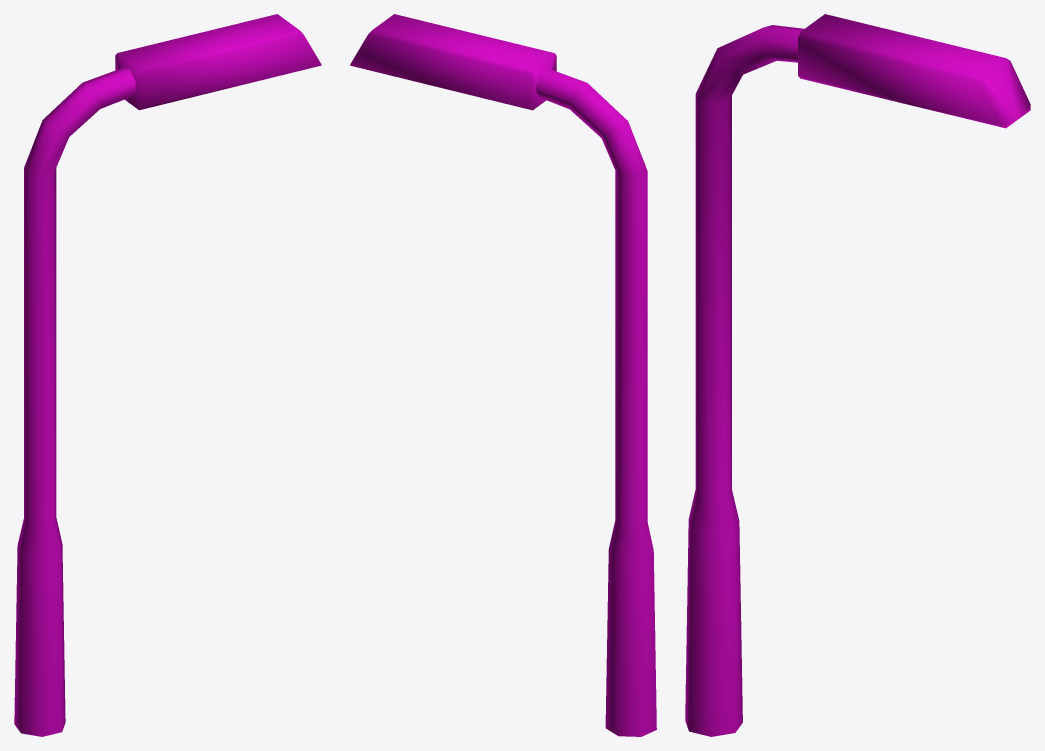
File: Streetlight.fbx
3 renders of one model, left to right at view 1: azimuth 30°, elevation 25°; view 2: azimuth 150°, elevation 25°; view 3: azimuth 330°, elevation 25°, orthographic. The views are drawn at different scales.
Parts seen in each view (by area): view 1: Streetlight; view 2: Streetlight; view 3: Streetlight.
Part boxes in pixels (box(x1,y1,x2,y2)): Streetlight: box(14, 14, 321, 736); Streetlight: box(350, 14, 656, 736); Streetlight: box(685, 14, 1030, 736).
Size of the model in its own units: 398 by 837 by 61.71.
